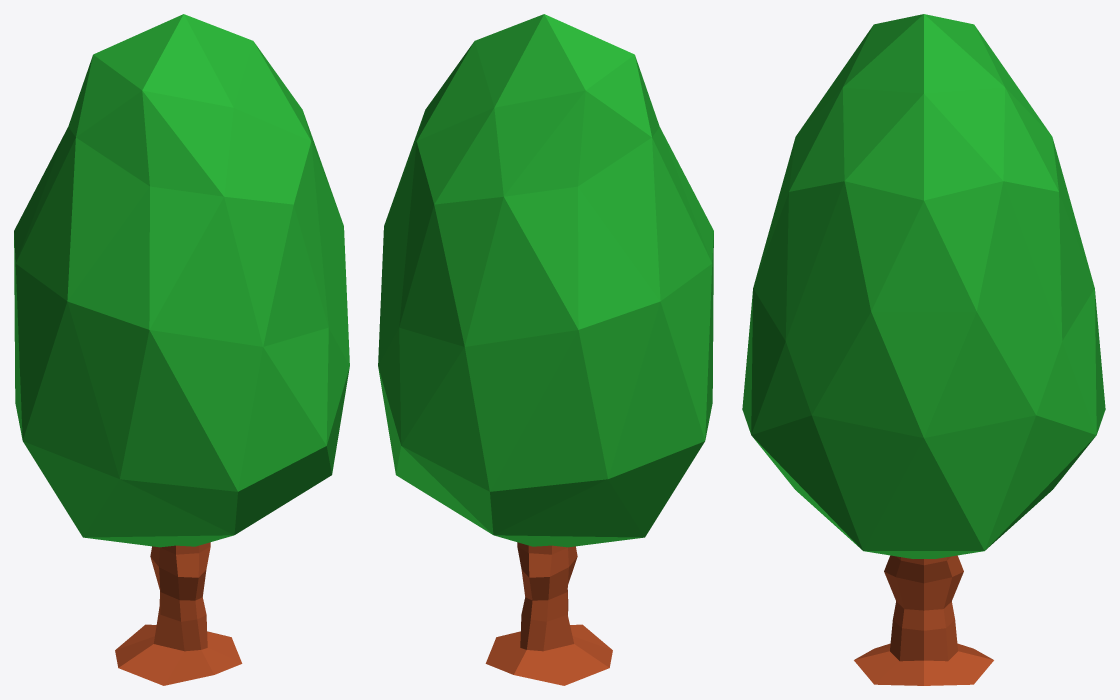
The model's file is tree_1.glb.
3 views of the same model, side by side, from view 1: azimuth 30°, elevation 25°; view 2: azimuth 150°, elevation 25°; view 3: azimuth 270°, elevation 25° (orthographic). The views are drawn at different scales.
Visible parts, largest first — view 1: tree_1; view 2: tree_1; view 3: tree_1.
Part boxes in pixels (x1,y1,x2,y2): tree_1: [14, 14, 349, 685]; tree_1: [378, 14, 713, 685]; tree_1: [742, 14, 1105, 685].
Size of the model in its own units: 1.86 by 3.66 by 1.83.
